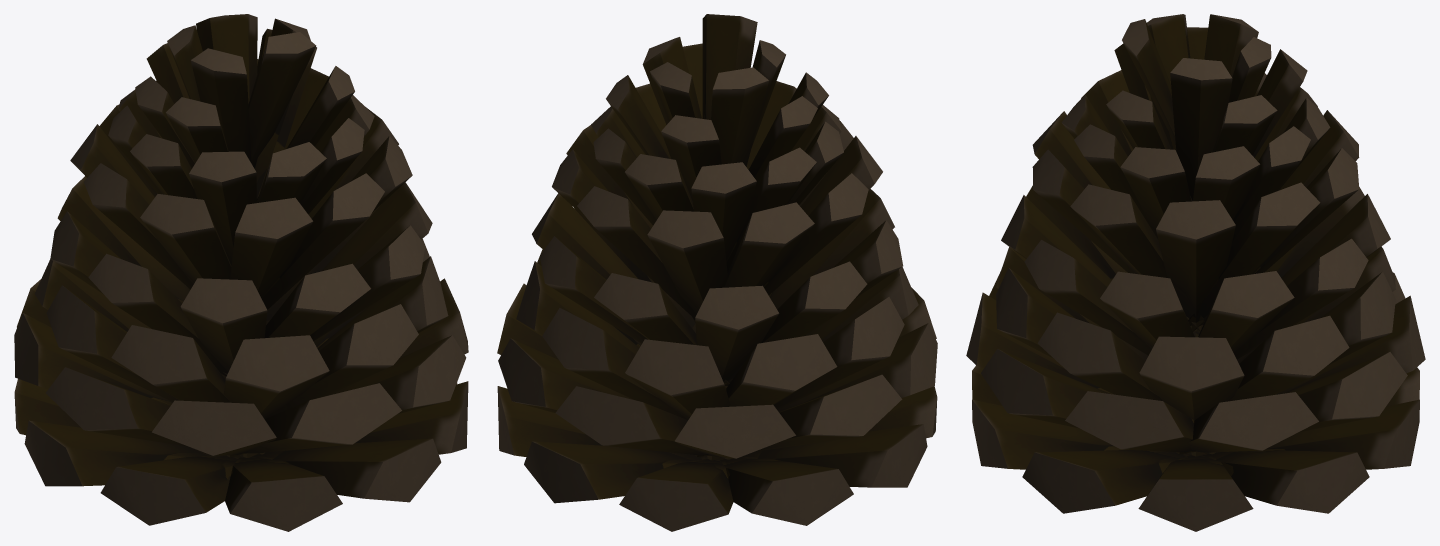
The picture shows the model from 3 angles, left to right: view 1: azimuth 30°, elevation 25°; view 2: azimuth 150°, elevation 25°; view 3: azimuth 270°, elevation 25°; orthographic projection. The views are drawn at different scales.
Parts seen in each view (by area): view 1: PineCone_mesh; view 2: PineCone_mesh; view 3: PineCone_mesh.
Boxes of the visible parts, <box> form: PineCone_mesh: <box>14,14,468,531</box>; PineCone_mesh: <box>497,14,937,531</box>; PineCone_mesh: <box>966,14,1425,531</box>.
Size of the model in its own units: 8.12 by 8.98 by 8.2.
1 material, 1 textured.
